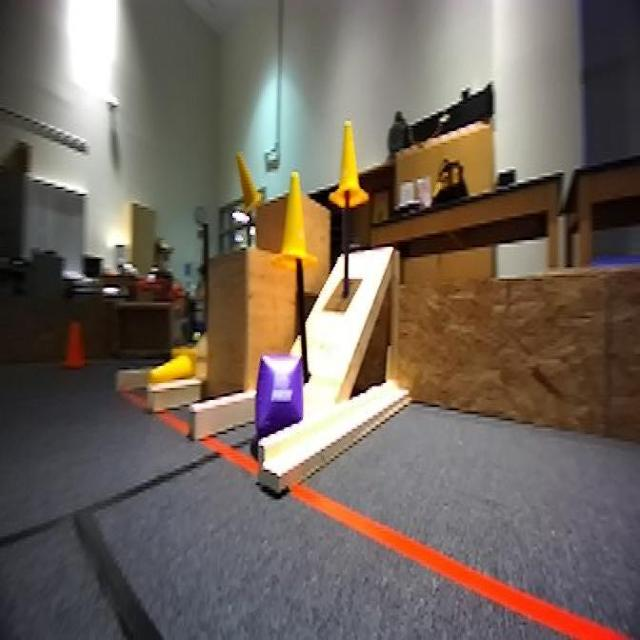frc_cone: (275, 174, 317, 270), (329, 120, 368, 210), (149, 345, 198, 390), (233, 148, 264, 215)
frc_cube: (255, 350, 304, 438)
